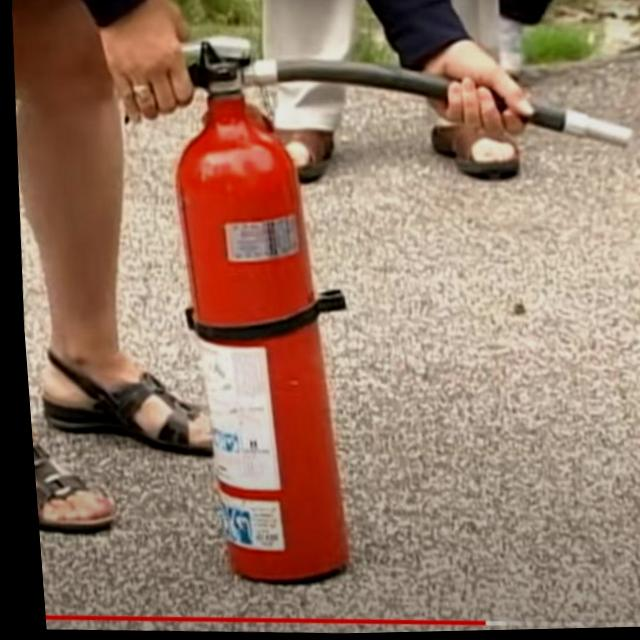FireExtinguisher: (94, 17, 640, 606)
